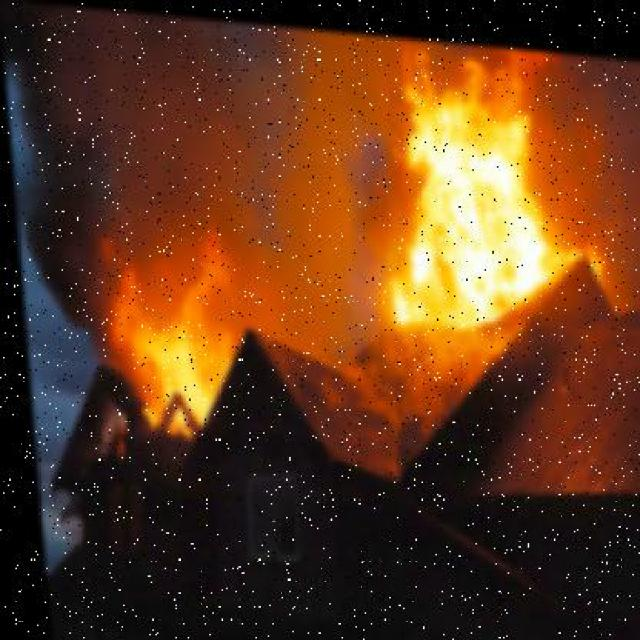fire: (357, 33, 571, 326), (73, 206, 259, 452)
